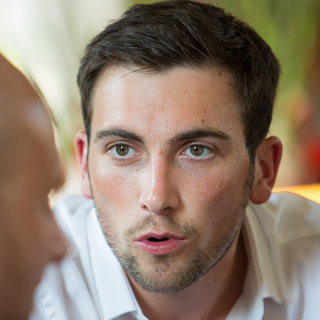eye: (175, 138, 222, 164), (100, 138, 143, 164)
